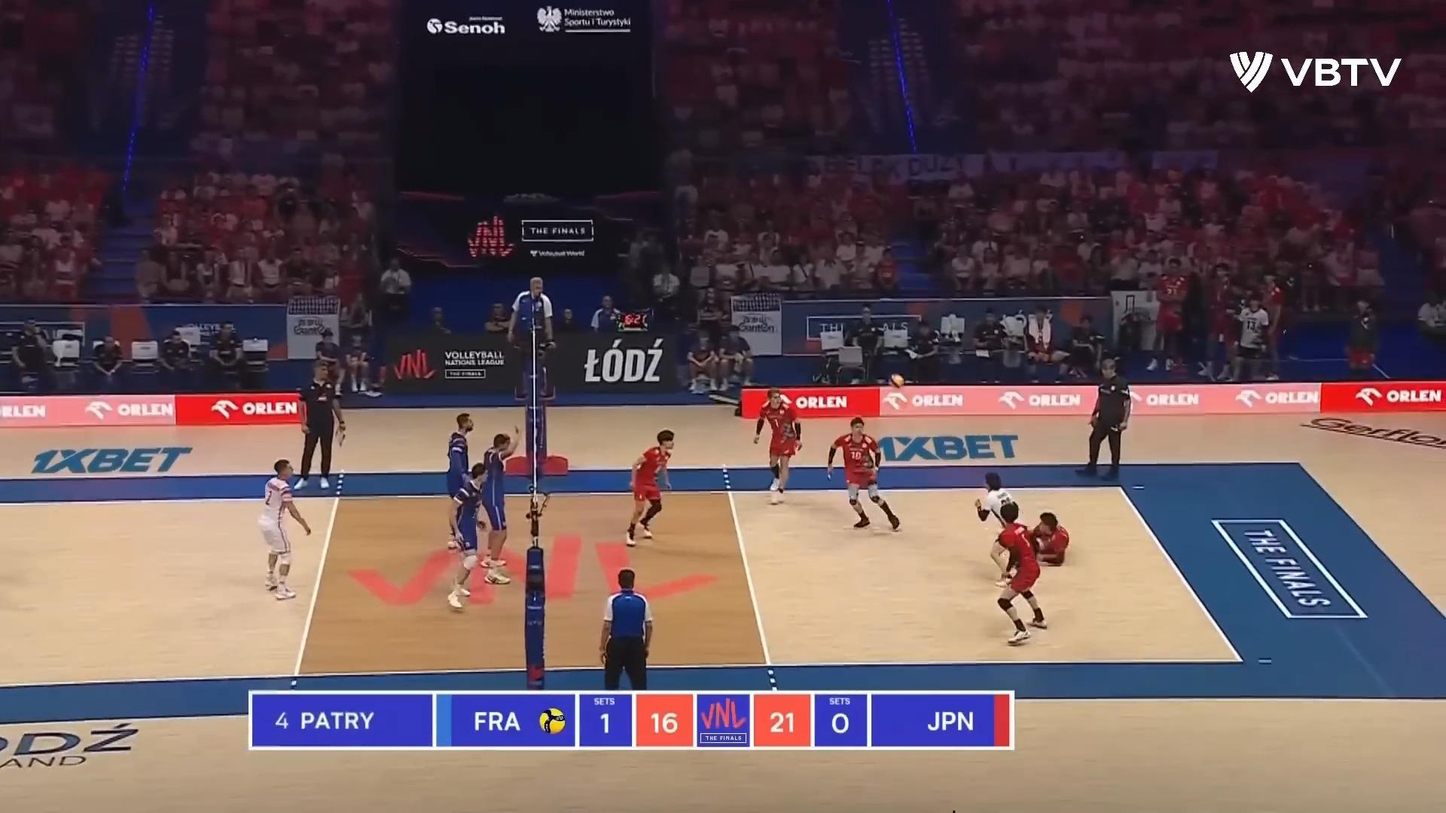ball: (889, 373, 905, 389)
